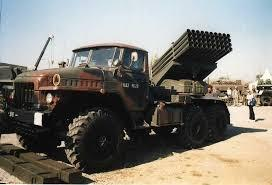rszo: (13, 26, 236, 160)
